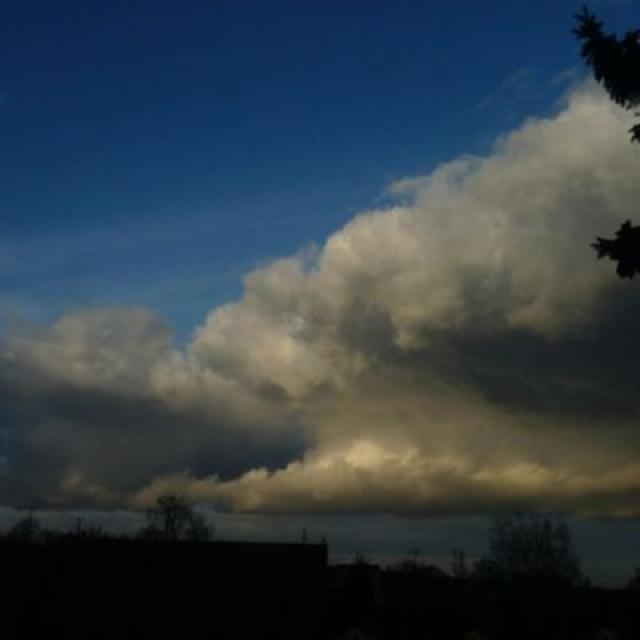Cu: (1, 162, 640, 471)
